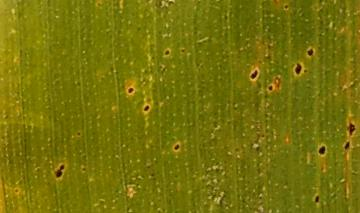tarspot: (52, 161, 67, 180), (292, 60, 304, 77), (248, 65, 259, 81), (317, 143, 328, 158), (304, 45, 316, 57), (340, 140, 353, 151), (126, 84, 136, 98), (312, 192, 322, 206), (140, 103, 152, 113), (162, 47, 172, 58), (172, 141, 181, 153), (265, 84, 275, 93)
